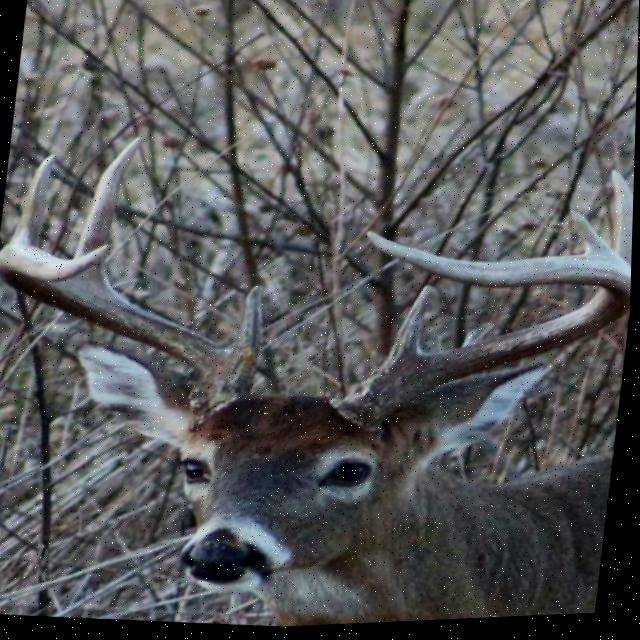L-F: (340, 234, 633, 435)
L-G1: (385, 290, 434, 367)
R-F: (0, 243, 257, 424)
R-G1: (230, 286, 266, 370)
R-G3: (10, 152, 58, 247)
